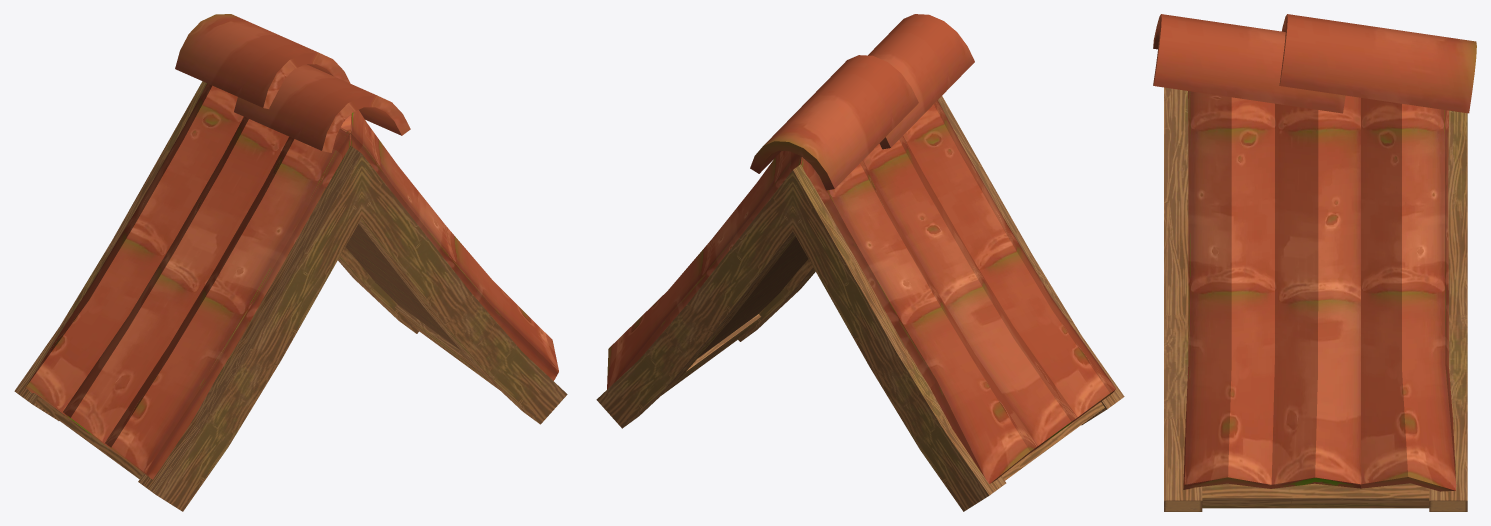
Rendered from Roof_RoundTile_2x1.gltf.
The picture shows the model from 3 angles, left to right: view 1: azimuth 30°, elevation 25°; view 2: azimuth 150°, elevation 25°; view 3: azimuth 270°, elevation 25°; orthographic projection. The views are drawn at different scales.
Visible parts, largest first — view 1: Roof_RoundTile_2x1; view 2: Roof_RoundTile_2x1; view 3: Roof_RoundTile_2x1.
Part boxes in pixels (left/top/right/bottom): Roof_RoundTile_2x1: left=14, top=14, right=567, bottom=511; Roof_RoundTile_2x1: left=596, top=14, right=1124, bottom=511; Roof_RoundTile_2x1: left=1153, top=14, right=1476, bottom=511.
Size of the model in its own units: 3.3 by 2.66 by 1.95.
2 materials, 2 textured.
